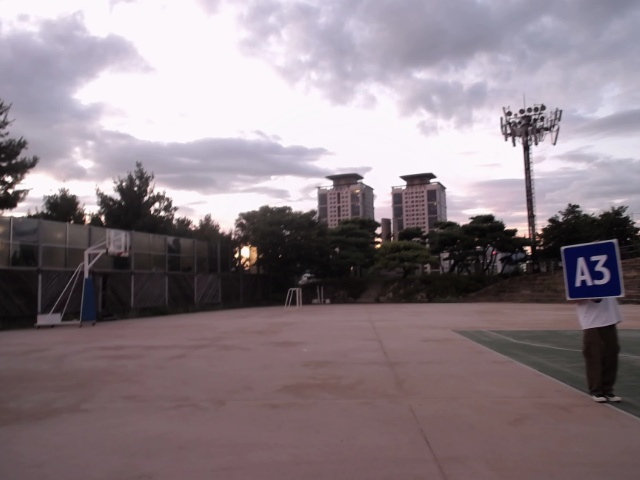delivery_a3: (562, 240, 624, 301)
